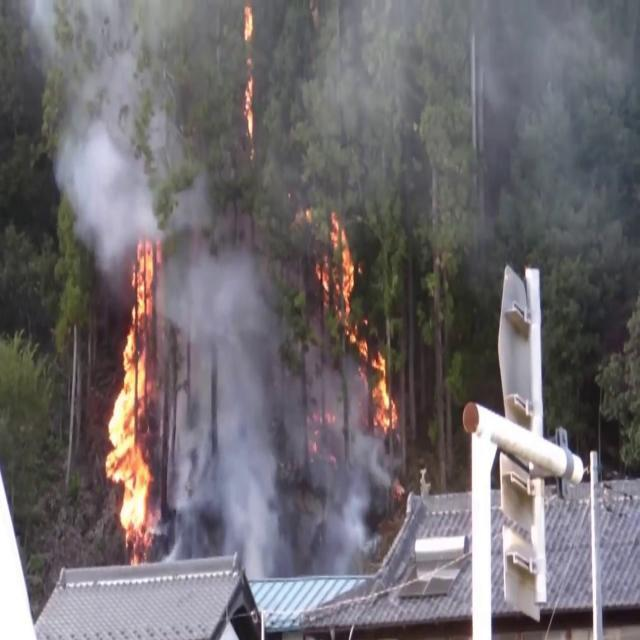Fire: (307, 206, 392, 442), (100, 238, 164, 551), (234, 0, 260, 158)
Smoke: (271, 0, 640, 304), (160, 224, 291, 588), (29, 0, 192, 249)
